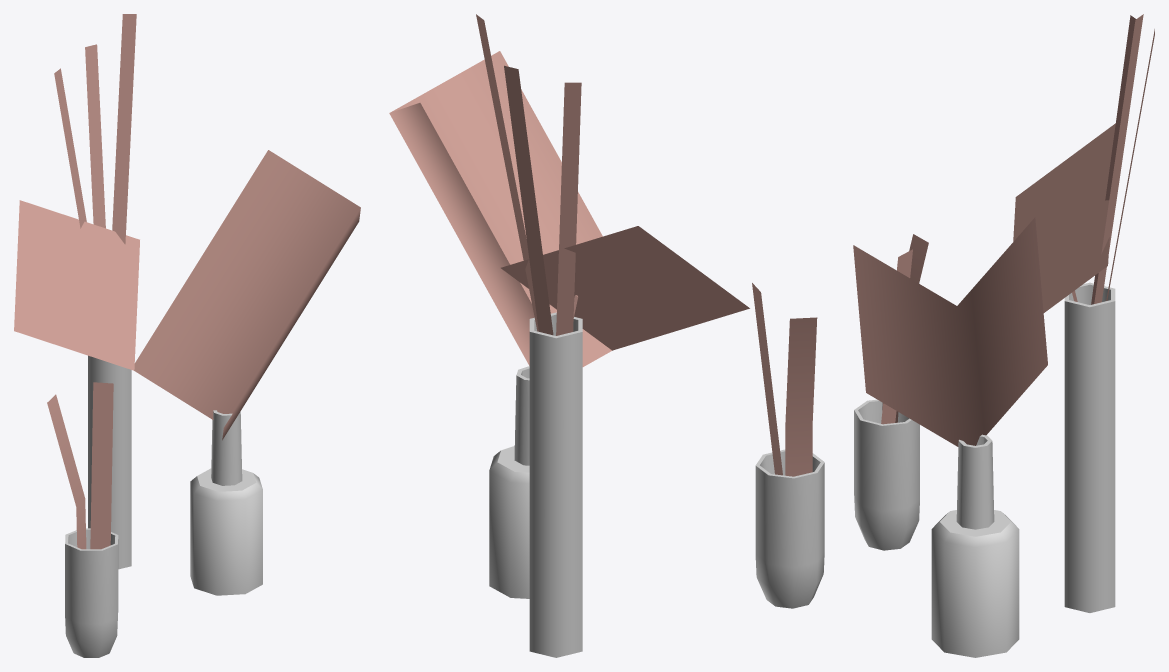
Rendered from ZWHH03.FBX.
3 renders of one model, left to right at view 1: azimuth 30°, elevation 25°; view 2: azimuth 150°, elevation 25°; view 3: azimuth 270°, elevation 25°, orthographic. The views are drawn at different scales.
Visible parts, largest first — view 1: ZWHH03; view 2: ZWHH03; view 3: ZWHH03.
Part boxes in pixels (x1,y1,x2,y2): ZWHH03: (14,14,360,657); ZWHH03: (389,14,824,657); ZWHH03: (853,14,1154,657).
Bounding box in the file's own units: 40.83 × 27.51 × 61.12.
